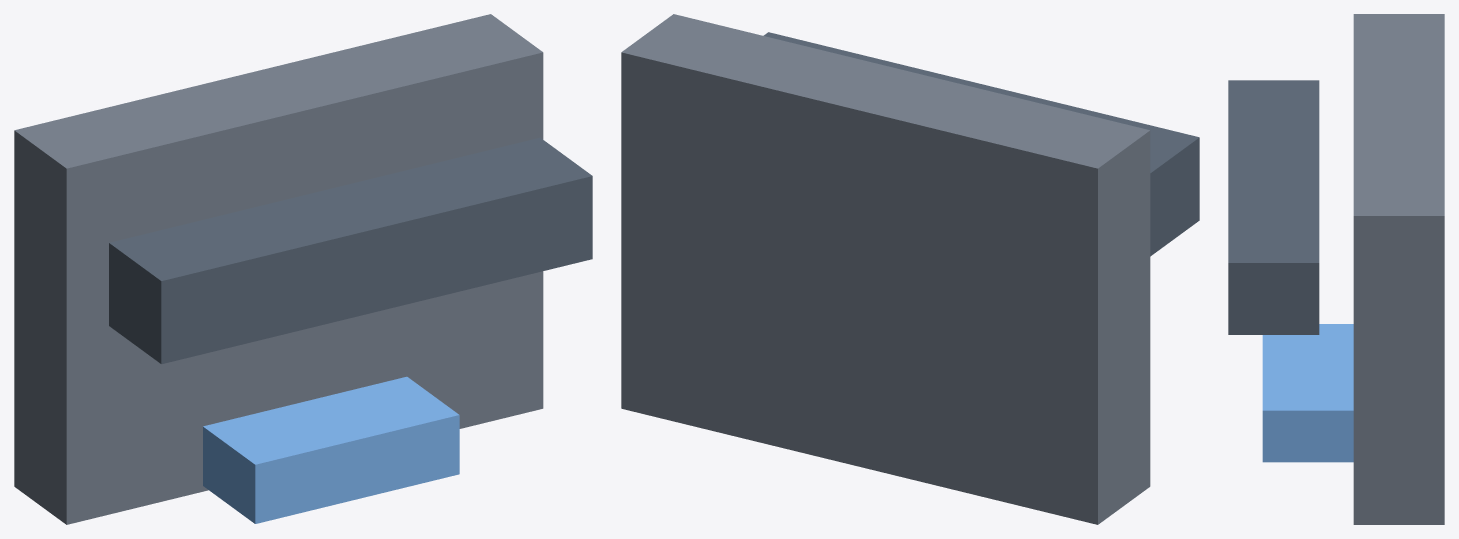
File: ip_phone.glb
The picture shows the model from 3 angles, left to right: view 1: azimuth 30°, elevation 25°; view 2: azimuth 150°, elevation 25°; view 3: azimuth 270°, elevation 25°; orthographic projection. The views are drawn at different scales.
Visible parts, largest first — view 1: base_0, handset_2, display_1; view 2: base_0, handset_2; view 3: base_0, handset_2, display_1.
Part boxes in pixels (box(x1,y1,x2,y2)): base_0: box(14, 14, 543, 524); handset_2: box(109, 137, 592, 364); display_1: box(203, 376, 459, 523); base_0: box(621, 14, 1150, 524); handset_2: box(763, 32, 1199, 256); base_0: box(1353, 14, 1444, 524); handset_2: box(1228, 80, 1319, 334); display_1: box(1262, 324, 1353, 462).
Size of the model in its own units: 0.42 by 0.3 by 0.19.
